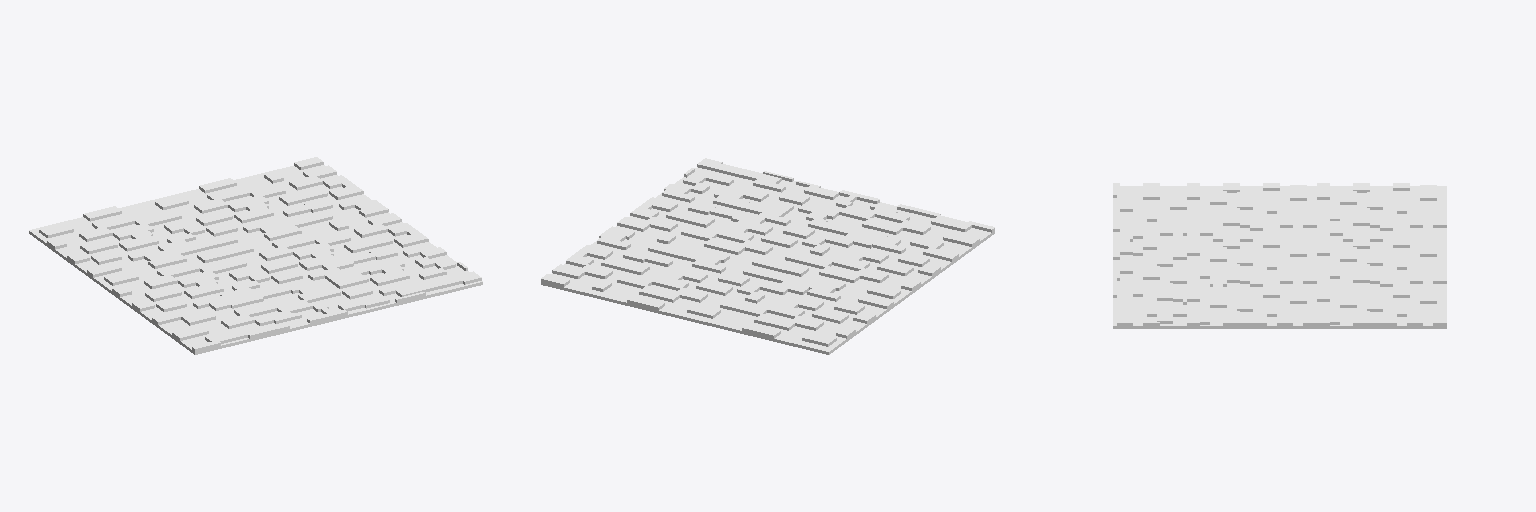
Rendered from Floor2.obj.
3 renders of one model, left to right at view 1: azimuth 30°, elevation 25°; view 2: azimuth 150°, elevation 25°; view 3: azimuth 270°, elevation 25°, orthographic.
Visible parts, largest first — view 1: object 1; view 2: object 1; view 3: object 1.
Boxes of the visible parts, x1=… form: object 1: x1=29, y1=157, x2=482, y2=354; object 1: x1=541, y1=158, x2=994, y2=354; object 1: x1=1113, y1=183, x2=1446, y2=328.
Size of the model in its own units: 10 by 0.2 by 10.